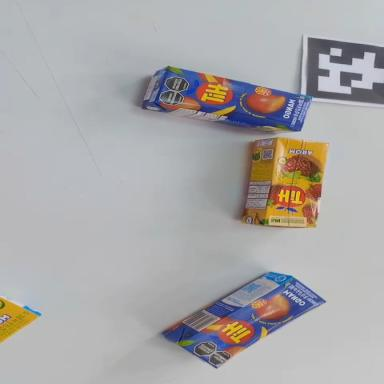HIT-MANGO: (161, 253, 327, 383), (141, 63, 311, 143)
HIT-MORA: (242, 133, 327, 234), (0, 296, 41, 352)
cara_F: (178, 267, 327, 379), (157, 65, 312, 133), (264, 136, 329, 233), (0, 297, 39, 344)
